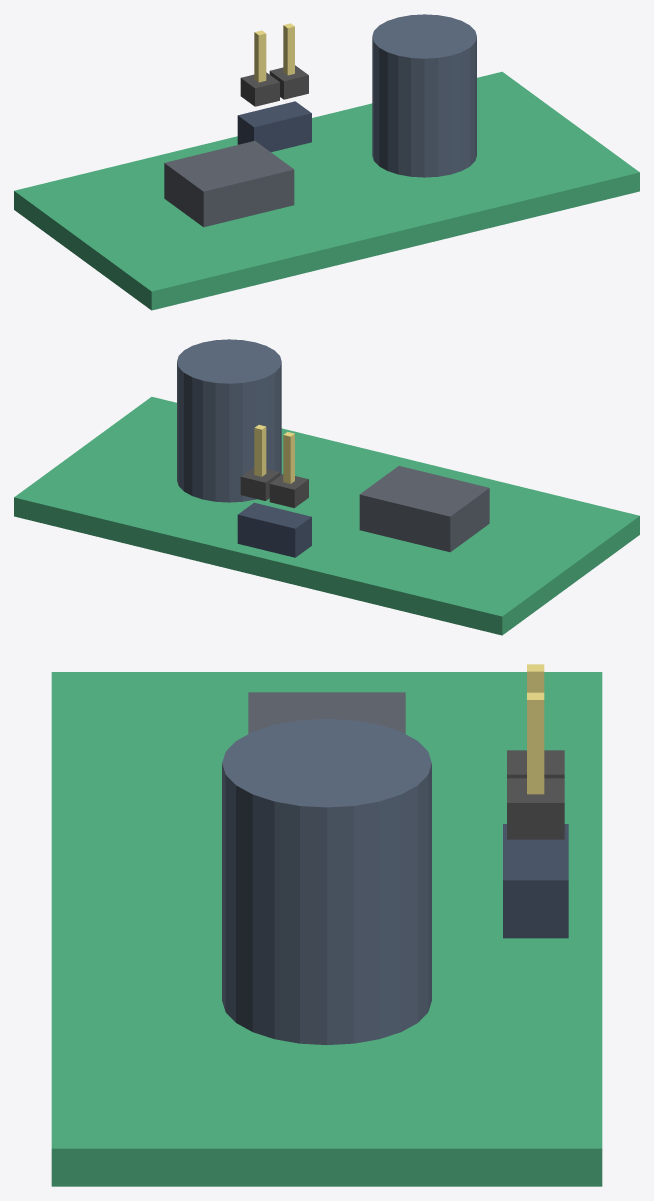
The model's file is diode-1n5819.glb.
3 views of the same model, one above another, from view 1: azimuth 30°, elevation 25°; view 2: azimuth 150°, elevation 25°; view 3: azimuth 270°, elevation 25° (orthographic). The views are drawn at different scales.
Visible parts, largest first — view 1: diode-1n5819_mesh; view 2: diode-1n5819_mesh; view 3: diode-1n5819_mesh.
Part boxes in pixels (bbox=[...]): diode-1n5819_mesh: bbox=[14, 14, 639, 310]; diode-1n5819_mesh: bbox=[14, 339, 639, 635]; diode-1n5819_mesh: bbox=[51, 664, 602, 1186].
Bounding box in the file's own units: 43 × 11.8 × 21.
